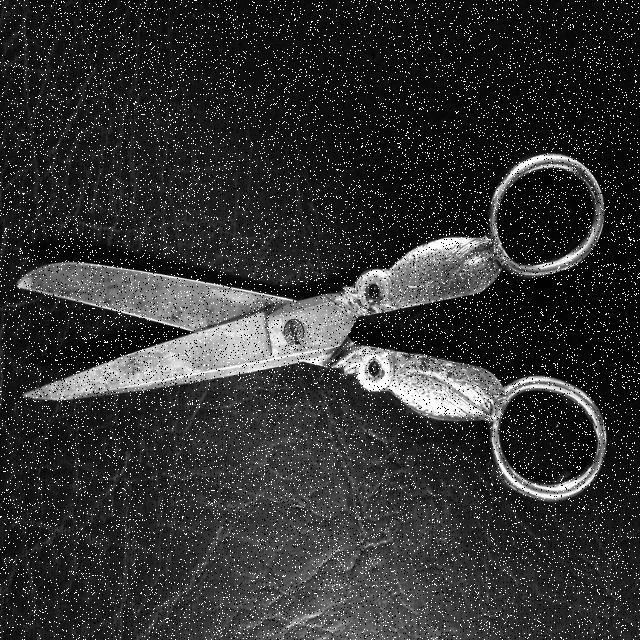scissors: (13, 144, 617, 506)
